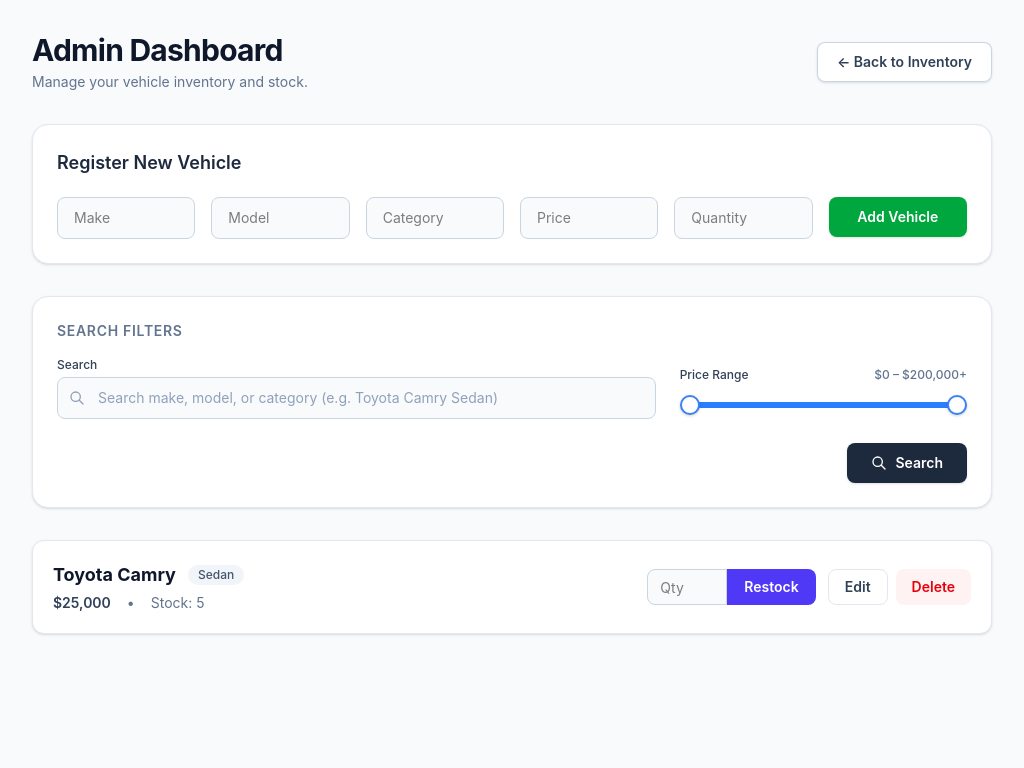
Scenario: Admin › loads vehicle into form when edit is clicked
The width and height of the screenshot is (1024, 768).
expect the heading "Toyota Camry" is shown: met, box 53,561 -> 176,589
Click the button "Edit". click: (858, 587)
box: 828,569 -> 888,605
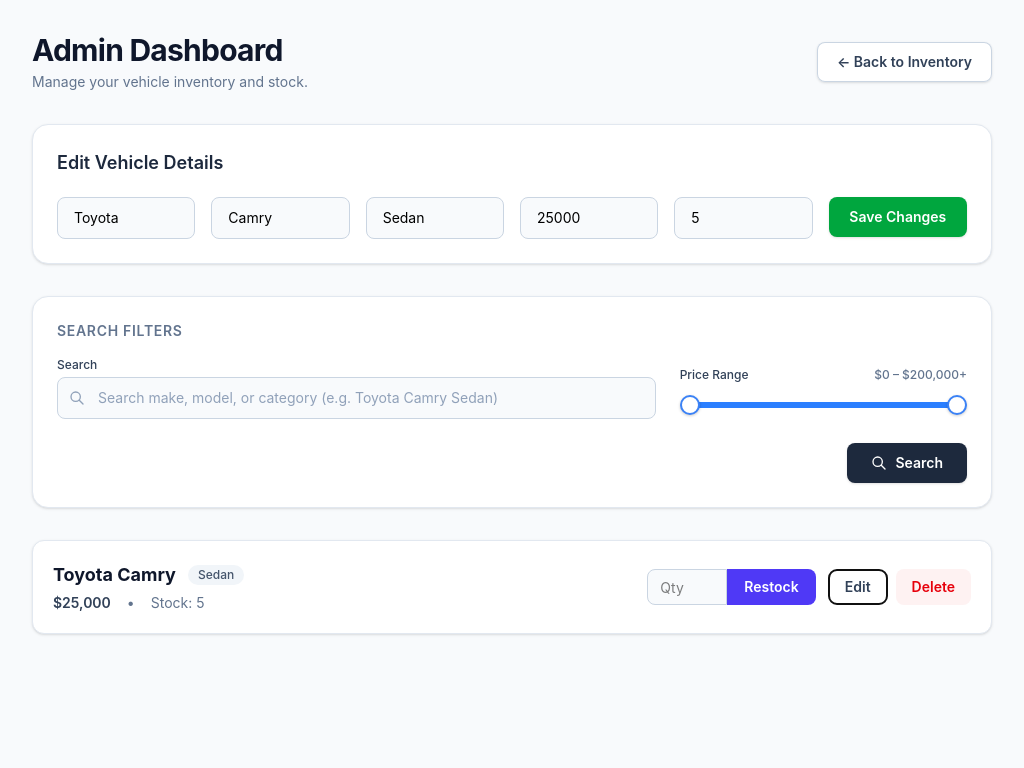
expect the 1st field showing "Toyota" is shown: met, box 57,197 -> 195,239
expect the 2nd field showing "Camry" is shown: met, box 211,197 -> 350,239
expect the button "Save Changes" is shown: met, box 829,197 -> 967,237
